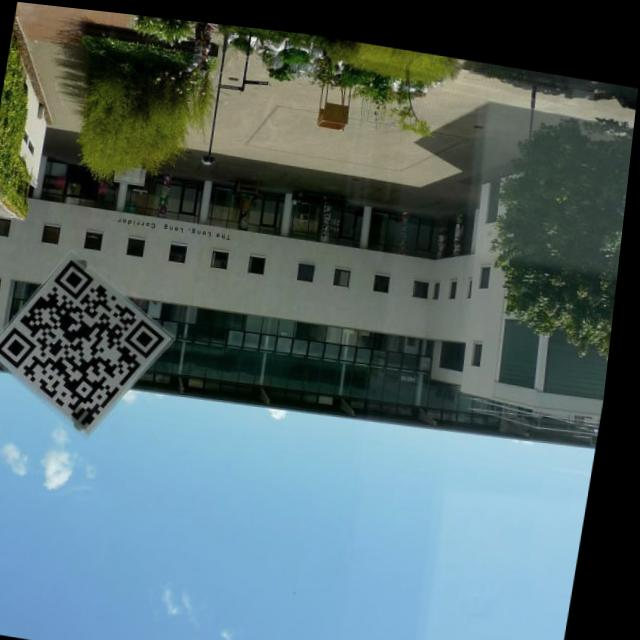qrcode: (1, 249, 182, 435)
